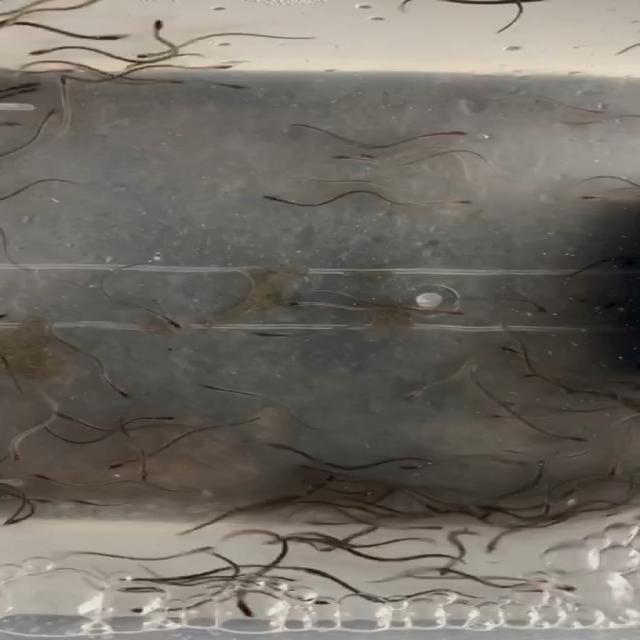active_glass_eel: (244, 434, 310, 458), (418, 118, 479, 142), (140, 306, 190, 334), (243, 186, 304, 208), (386, 384, 434, 410), (532, 577, 588, 599), (136, 12, 182, 38), (188, 374, 230, 402), (96, 383, 146, 405), (426, 304, 476, 324), (406, 498, 454, 518), (344, 145, 394, 164), (178, 538, 224, 558), (224, 604, 275, 622), (192, 61, 252, 76), (86, 454, 126, 476), (467, 500, 512, 519), (244, 325, 288, 344), (270, 297, 322, 313), (16, 42, 67, 58), (438, 194, 482, 212), (572, 101, 618, 118), (384, 459, 432, 475), (556, 191, 608, 205), (4, 446, 40, 466), (60, 494, 100, 512), (320, 148, 359, 166), (493, 343, 531, 361), (517, 302, 555, 319), (122, 48, 162, 64), (46, 406, 78, 426), (292, 592, 332, 608), (132, 466, 158, 490), (428, 564, 464, 581), (302, 510, 332, 530), (308, 470, 342, 487), (416, 520, 464, 532), (115, 606, 163, 618), (476, 409, 511, 425), (84, 32, 130, 44), (560, 430, 593, 446), (250, 532, 280, 548), (10, 77, 51, 88), (29, 471, 57, 486), (222, 82, 260, 93), (38, 106, 64, 120), (17, 86, 51, 96), (156, 78, 190, 88), (143, 416, 180, 425), (24, 497, 52, 508)
